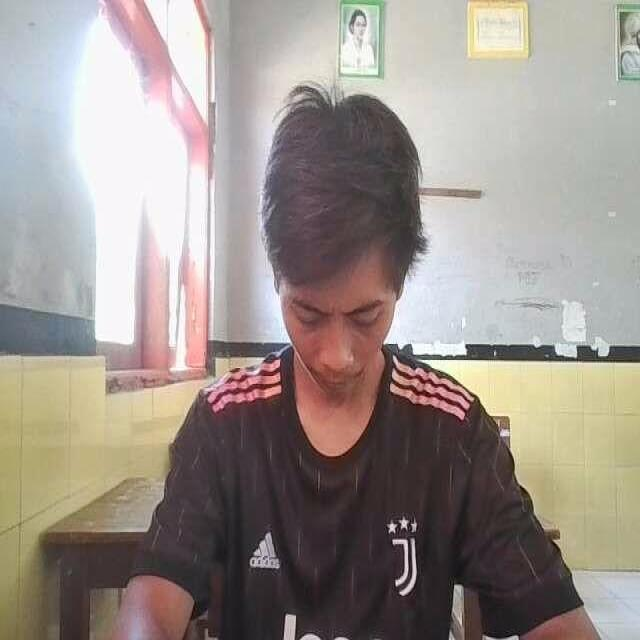9_cabeza_baja: (258, 85, 428, 398)
